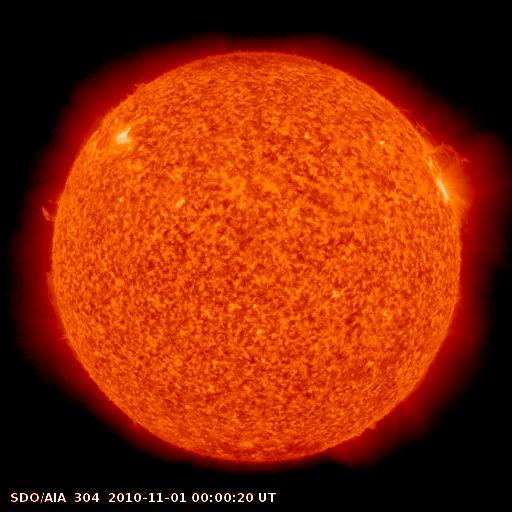prominence: (396, 92, 478, 173), (36, 260, 78, 348), (26, 182, 81, 230), (117, 72, 171, 108), (351, 404, 399, 440)
